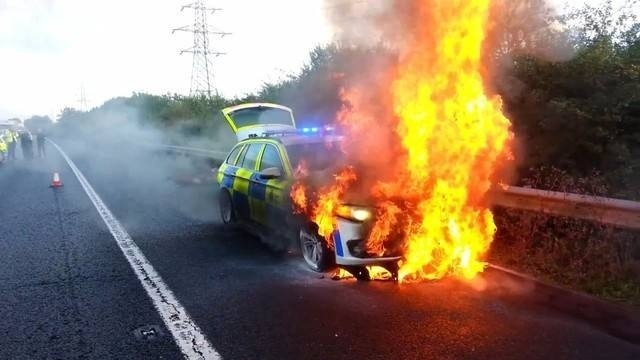fire: (288, 2, 516, 293)
